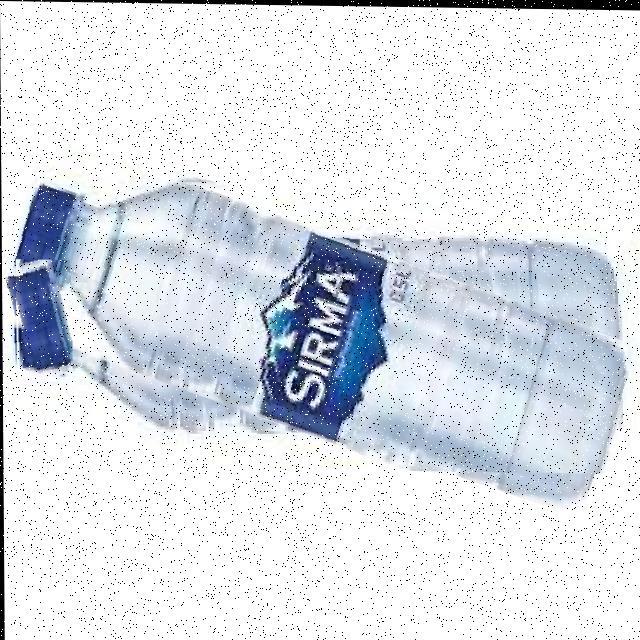litter: (3, 172, 639, 471), (16, 258, 72, 376)
